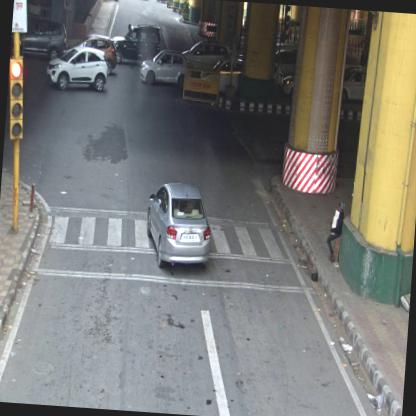car: (144, 181, 212, 271), (46, 44, 109, 94), (11, 17, 70, 61), (110, 22, 162, 66), (138, 48, 191, 88), (66, 34, 116, 74), (178, 42, 233, 76), (100, 0, 121, 3)
